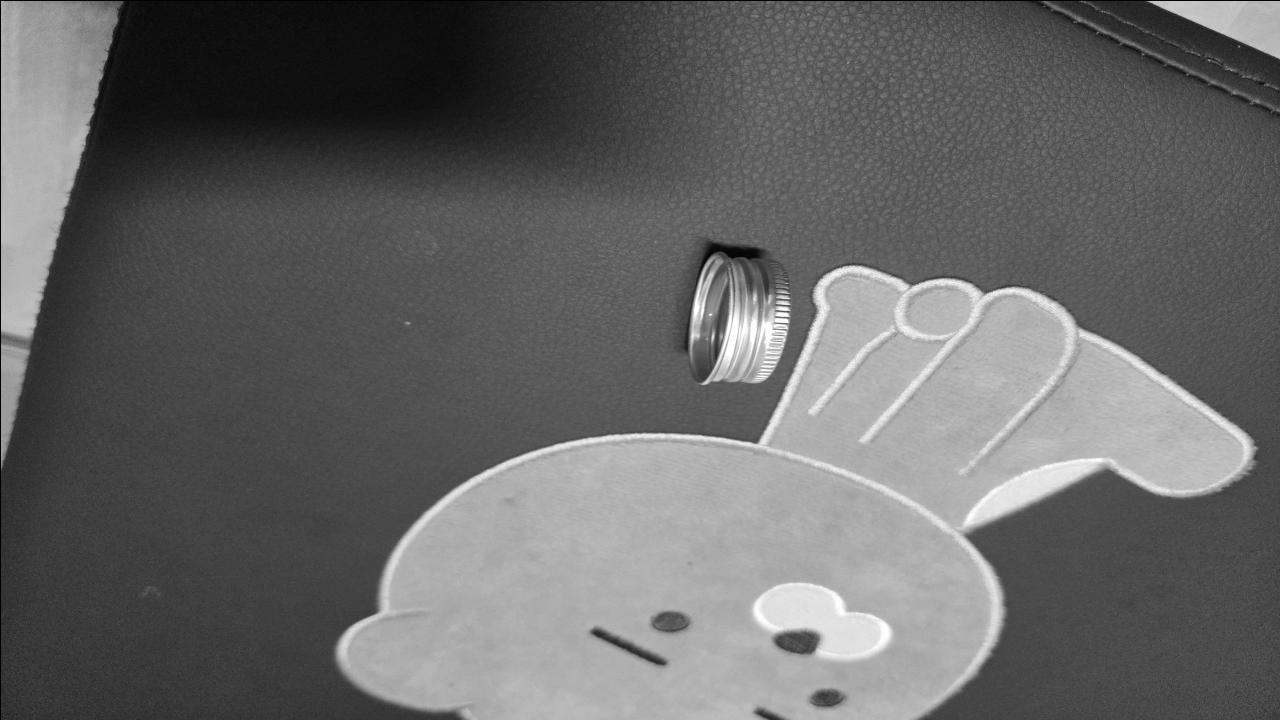bottle_cap: (678, 248, 794, 386)
